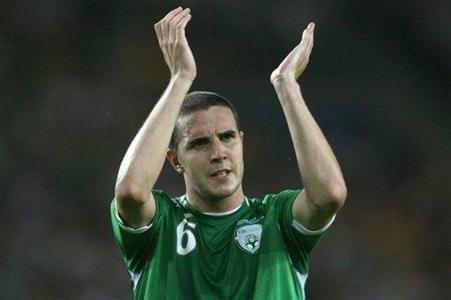person: (105, 8, 351, 298)
